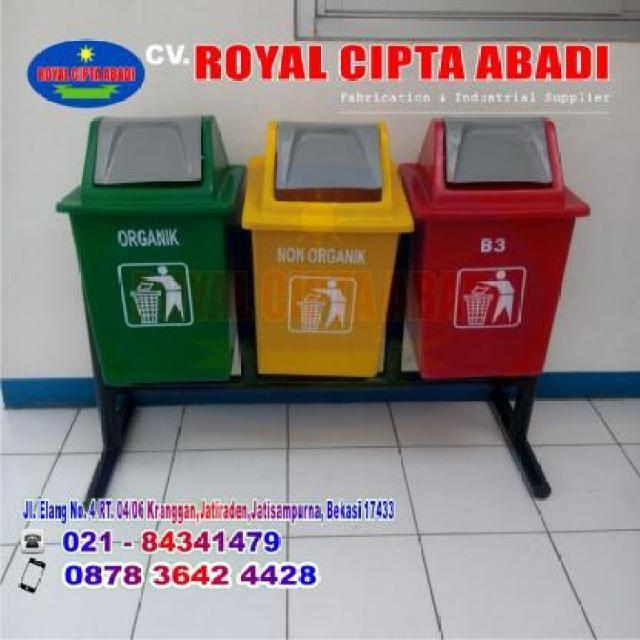garbage container: (398, 114, 598, 391), (50, 113, 244, 393), (241, 112, 420, 385)
